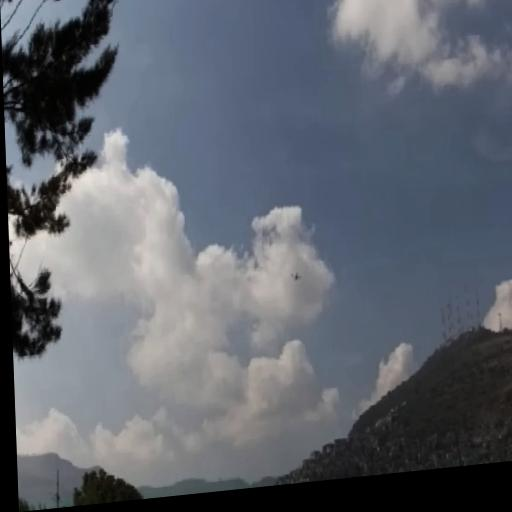drones: (288, 265, 304, 288)
